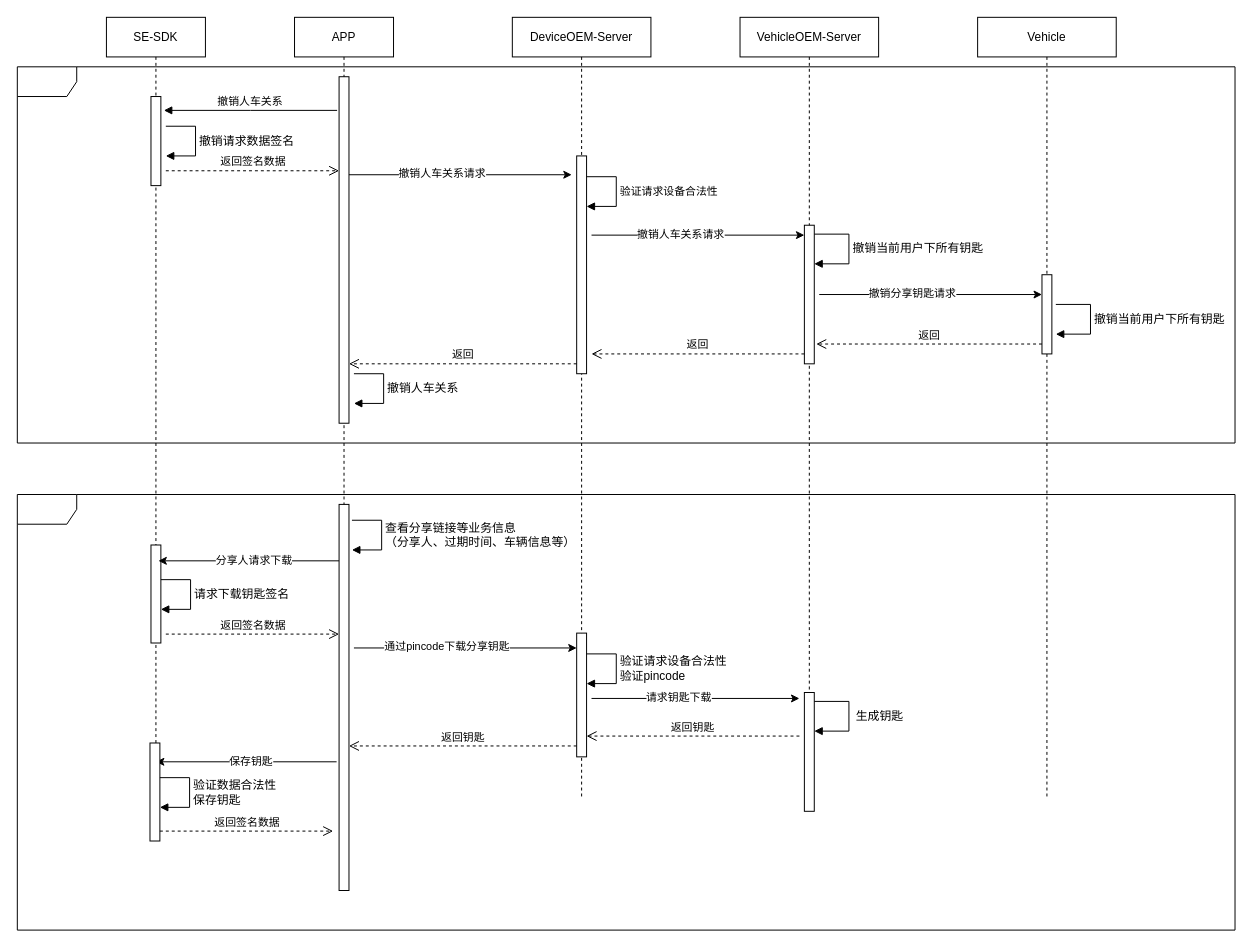
This 1252x947 diagram has some shape labels left out. Here are the shapes that lost their labels. From the top down, the centre of each, then its label:
At point 625,254: "撤销钥匙".
At point 625,712: "车主过户".
